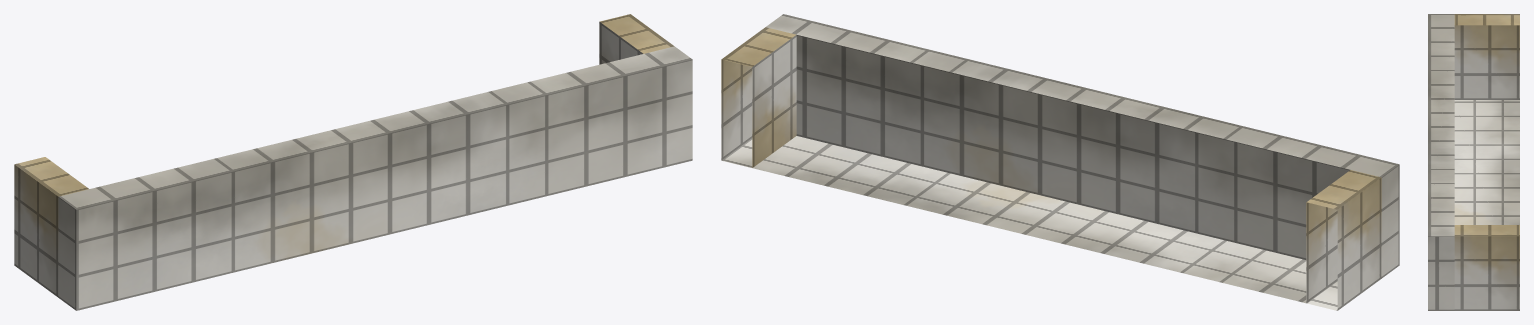
The model's file is VarandaFechadaGrande 1.fbx.
3 renders of one model, left to right at view 1: azimuth 30°, elevation 25°; view 2: azimuth 150°, elevation 25°; view 3: azimuth 270°, elevation 25°, orthographic. The views are drawn at different scales.
Parts seen in each view (by area): view 1: VarandaFechadaGrande; view 2: VarandaFechadaGrande; view 3: VarandaFechadaGrande.
Part boxes in pixels (x1,y1,x2,y2): VarandaFechadaGrande: [14, 14, 692, 310]; VarandaFechadaGrande: [721, 14, 1399, 310]; VarandaFechadaGrande: [1428, 14, 1519, 310].
Bounding box in the file's own units: 1371 × 215 × 240.
